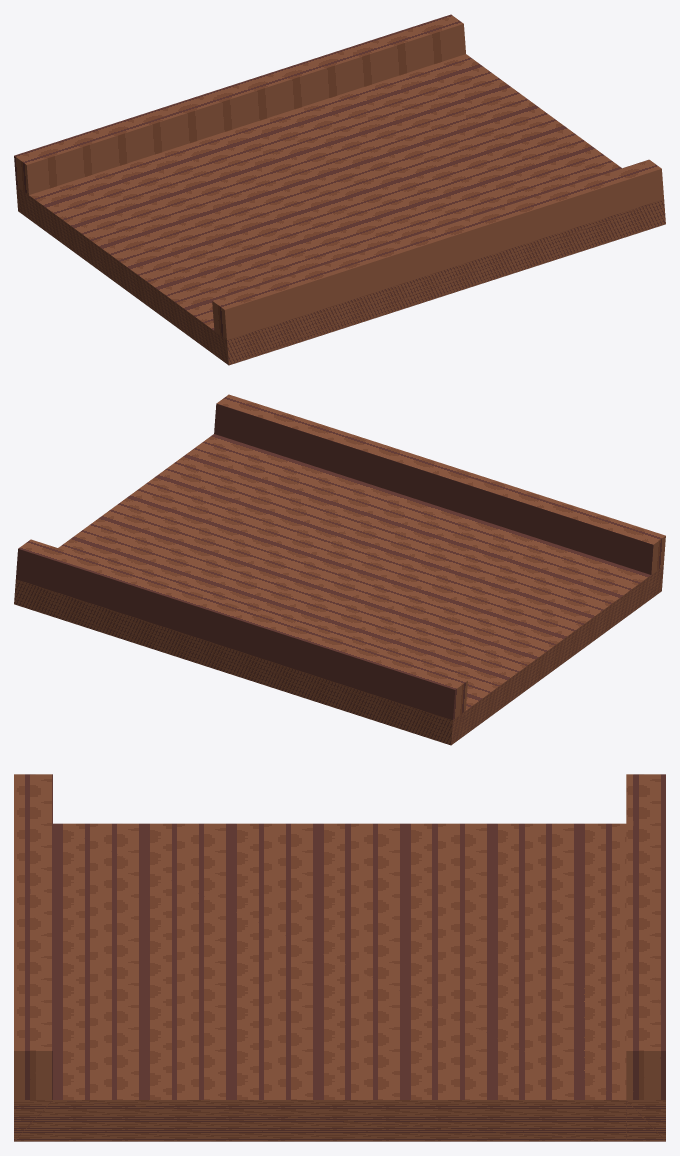
File: DrawBridge.fbx
3 views of the same model, one above another, from view 1: azimuth 30°, elevation 25°; view 2: azimuth 150°, elevation 25°; view 3: azimuth 270°, elevation 25° (orthographic). The views are drawn at different scales.
Visible parts, largest first — view 1: DrawBridge; view 2: DrawBridge; view 3: DrawBridge.
Part boxes in pixels (bbox=[...]): DrawBridge: bbox=[14, 14, 665, 365]; DrawBridge: bbox=[14, 394, 665, 745]; DrawBridge: bbox=[14, 774, 665, 1141].
Bounding box in the file's own units: 2623 × 518 × 2171.
1 material, 1 textured.
